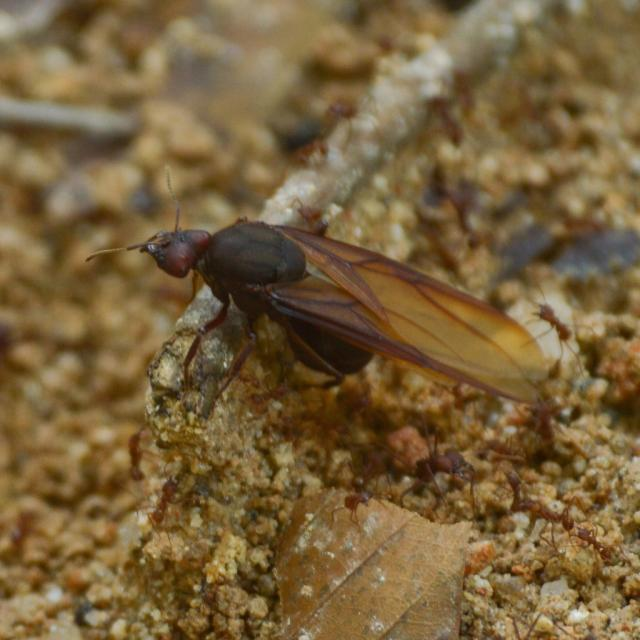Alive-Female-Alate: (84, 164, 550, 423)
